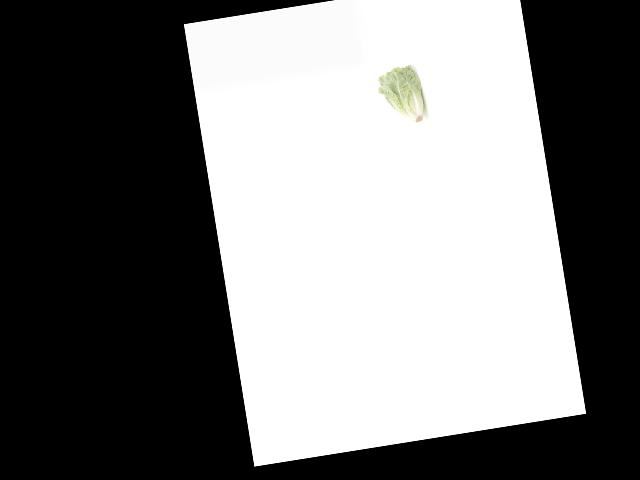lettuce: (375, 63, 428, 130)
